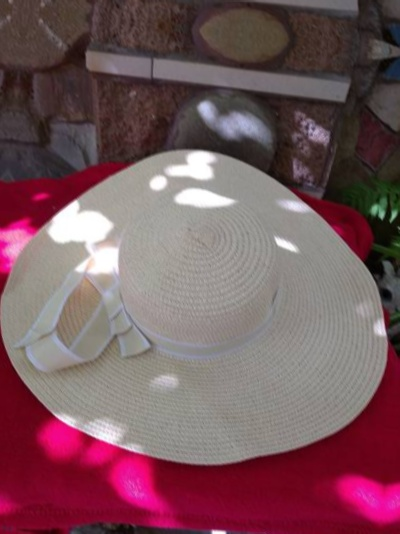Hat: (0, 115, 400, 480), (394, 159, 400, 524), (0, 69, 1, 434)
